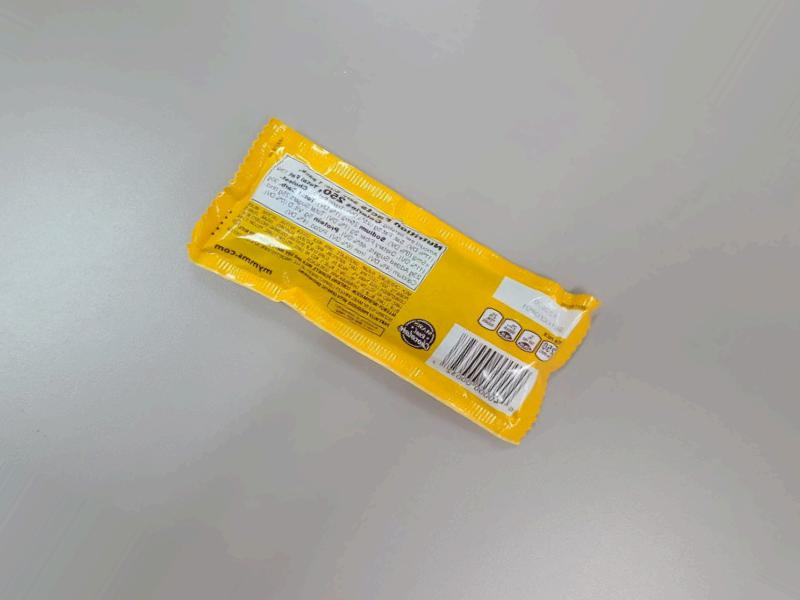m&m: (193, 111, 574, 457)
